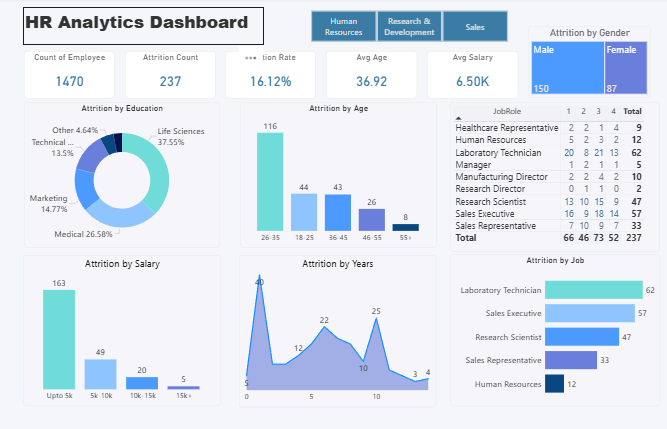

The page's visual inventory and layout, read from the dashboard file:
{"tool":"powerbi","page":{"name":"Page 1","canvas":[1700,1100],"ordinal":0},"visuals":[{"type":"card","title":"Count of Employee","fields":{"Values":["CountNonNull(HR_Analytics.EmpID)"]},"box":[63.3,135.7,230,120],"z":0},{"type":"card","title":"Avg Salary","fields":{"Values":["Avg(HR_Analytics.MonthlyIncome)"]},"box":[1083.7,135.7,230.8,119.9],"z":1000},{"type":"card","title":"Attrition Count","fields":{"Values":["Sum(HR_Analytics.Attrition Count)"]},"box":[318.2,135.7,230,120],"z":2000},{"type":"card","title":"Attrition Rate","fields":{"Values":["HR_Analytics.Atrrition Rate"]},"box":[573.1,135.7,230,120],"z":3000},{"type":"card","title":"Avg Age","fields":{"Values":["Avg(HR_Analytics.Age)"]},"box":[828,135.7,230.8,119.9],"z":4000},{"type":"donutChart","title":"Attrition by Education","fields":{"Y":["Sum(HR_Analytics.Attrition Count)"],"Category":["HR_Analytics.EducationField"]},"box":[62.2,273.8,497.7,360.9],"z":5000},{"type":"clusteredColumnChart","title":"Attrition by Age","fields":{"Category":["HR_Analytics.AgeGroup"],"Y":["Sum(HR_Analytics.Attrition Count)"]},"box":[609.7,273.8,500.2,360.9],"z":6000},{"type":"pivotTable","fields":{"Rows":["HR_Analytics.JobRole"],"Columns":["HR_Analytics.JobSatisfaction"],"Values":["Sum(HR_Analytics.Attrition Count)"]},"box":[1142.3,273.8,532.6,360.9],"z":7000},{"type":"clusteredColumnChart","title":"Attrition by Salary","fields":{"Category":["HR_Analytics.SalarySlab"],"Y":["Sum(HR_Analytics.Attrition Count)"]},"box":[61.4,653,501.8,383.5],"z":8000},{"type":"clusteredBarChart","title":"Attrition by Job","fields":{"Category":["HR_Analytics.JobRole"],"Y":["Sum(HR_Analytics.Attrition Count)"]},"box":[1142.3,652,532.6,385.7],"z":9000},{"type":"areaChart","title":"Attrition by Years ","fields":{"Y":["Sum(HR_Analytics.Attrition Count)"],"Category":["HR_Analytics.TotalWorkingYears"]},"box":[609.2,653,499.6,385.7],"z":10000},{"type":"treemap","title":"Attrition by Gender","fields":{"Group":["HR_Analytics.Gender"],"Values":["Sum(HR_Analytics.Attrition Count)"]},"box":[1341.4,74.7,311.1,181.7],"z":11000},{"type":"slicer","fields":{"Values":["HR_Analytics.Department"]},"box":[766.5,27.4,547.5,92.1],"z":12000},{"type":"textbox","box":[100.8,26.3,668.3,94.2],"z":13000}]}

Visuals, with their boxes in screenshot pixels (x1, y1, x2, y2), scaled from the page's 1700x1100 canvas onto the 667x429 screenshot:
"Count of Employee" card: detection(25, 53, 115, 100)
"Avg Salary" card: detection(425, 53, 516, 100)
"Attrition Count" card: detection(125, 53, 215, 100)
"Attrition Rate" card: detection(225, 53, 315, 100)
"Avg Age" card: detection(325, 53, 415, 100)
"Attrition by Education" donutChart: detection(24, 107, 220, 248)
"Attrition by Age" clusteredColumnChart: detection(239, 107, 435, 248)
pivotTable - HR_Analytics.JobRole x HR_Analytics.JobSatisfaction: detection(448, 107, 657, 248)
"Attrition by Salary" clusteredColumnChart: detection(24, 255, 221, 404)
"Attrition by Job" clusteredBarChart: detection(448, 254, 657, 405)
"Attrition by Years " areaChart: detection(239, 255, 435, 405)
"Attrition by Gender" treemap: detection(526, 29, 648, 100)
slicer - HR_Analytics.Department: detection(301, 11, 516, 47)
textbox: detection(40, 10, 302, 47)
